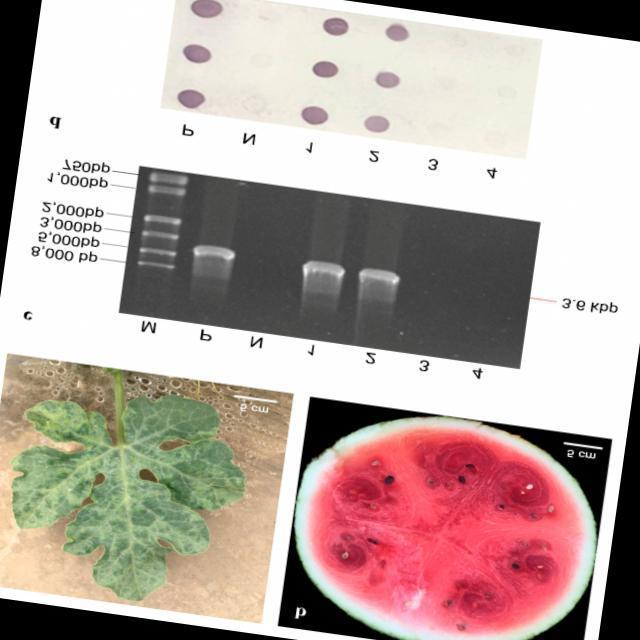Mosaic Virus: (0, 365, 262, 610)
